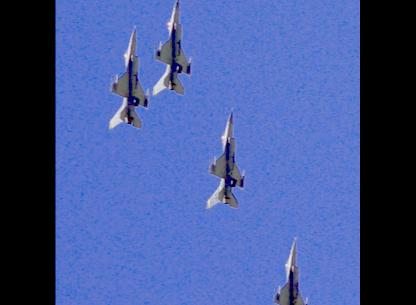F14: (107, 24, 148, 128), (151, 0, 193, 96), (206, 106, 245, 209), (269, 235, 309, 304)
